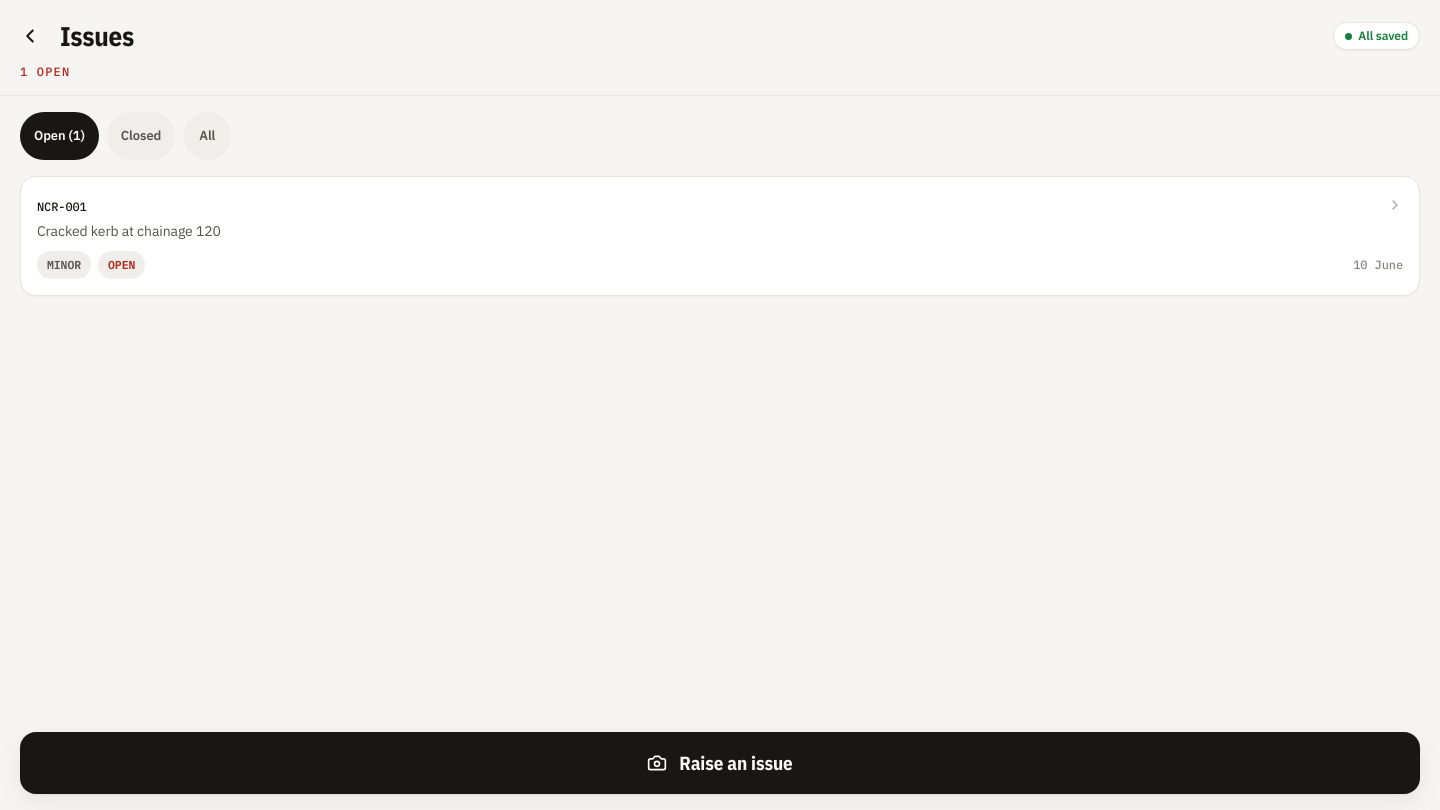
IssuesListScreen › switches to Closed and shows closed issues
This screenshot has width=1440, height=810.
Step 1. Click the button "Closed" → x=141, y=136, box [107,112,175,160]
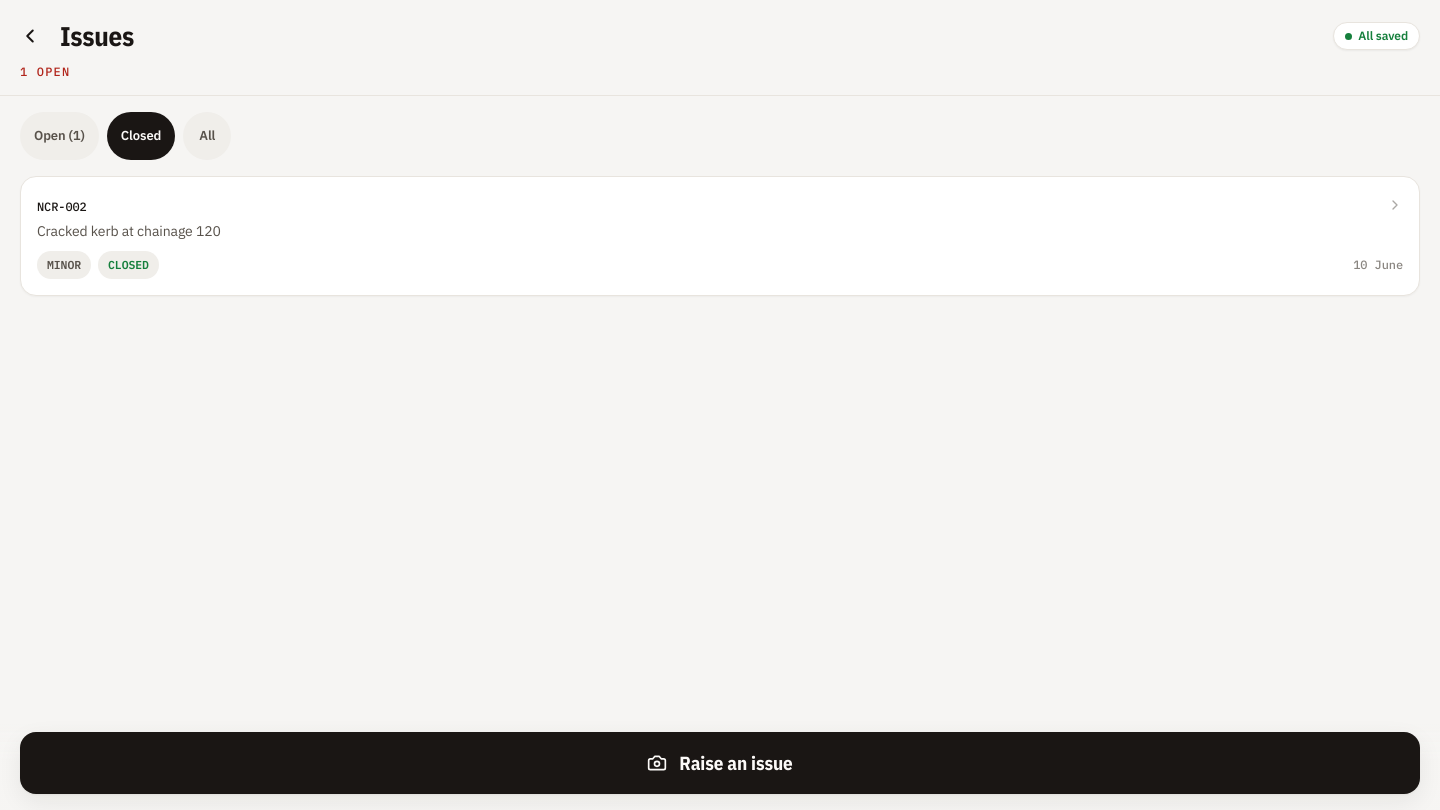
Check: the text "NCR-002" is shown, box [37,199,87,214]
Check: the button "NCR-001" is gone
